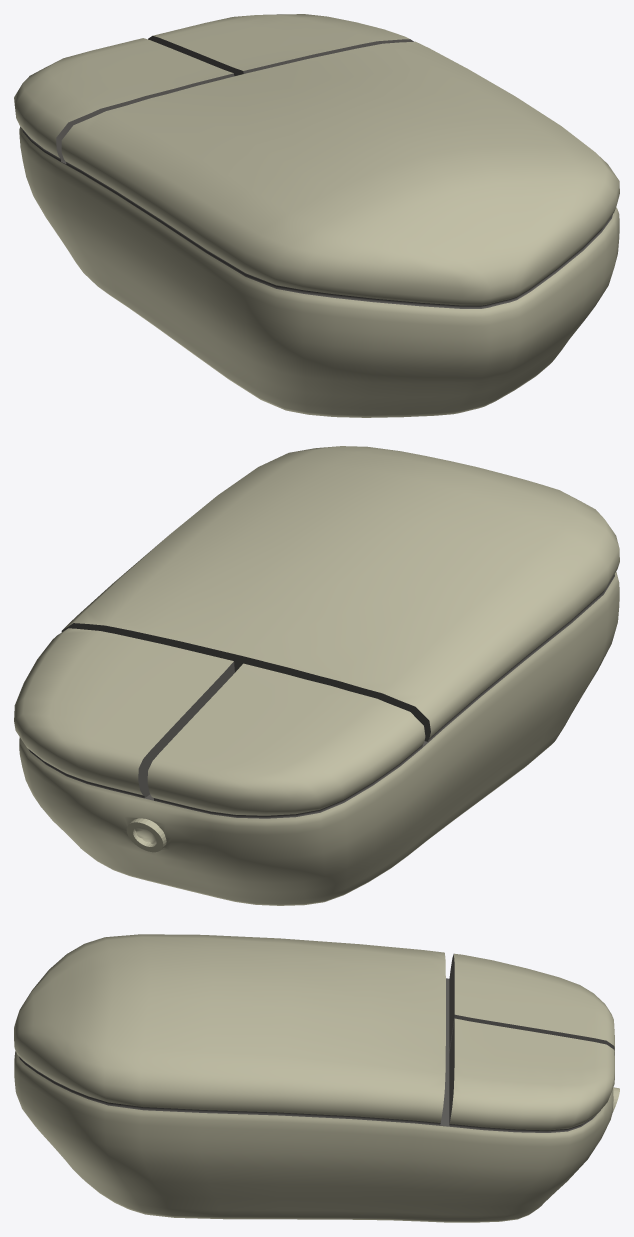
The model's file is Mouse.glb.
The picture shows the model from 3 angles, top to bottom: view 1: azimuth 30°, elevation 25°; view 2: azimuth 150°, elevation 25°; view 3: azimuth 270°, elevation 25°; orthographic projection. The views are drawn at different scales.
Parts seen in each view (by area): view 1: Mouse; view 2: Mouse; view 3: Mouse.
Boxes of the visible parts, x1,y1,x2,y2 form: Mouse: (14, 14, 619, 417); Mouse: (14, 446, 619, 905); Mouse: (14, 934, 619, 1222).
Size of the model in its own units: 0.4094 by 0.2467 by 0.6904.
